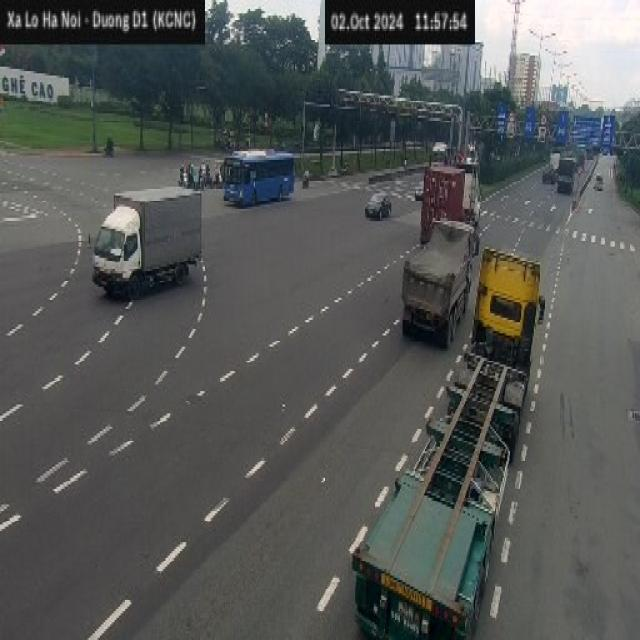bus: (220, 146, 294, 206)
car: (364, 191, 391, 218)
container-truck: (337, 244, 542, 640)
truck: (90, 184, 201, 300), (401, 218, 474, 346)
